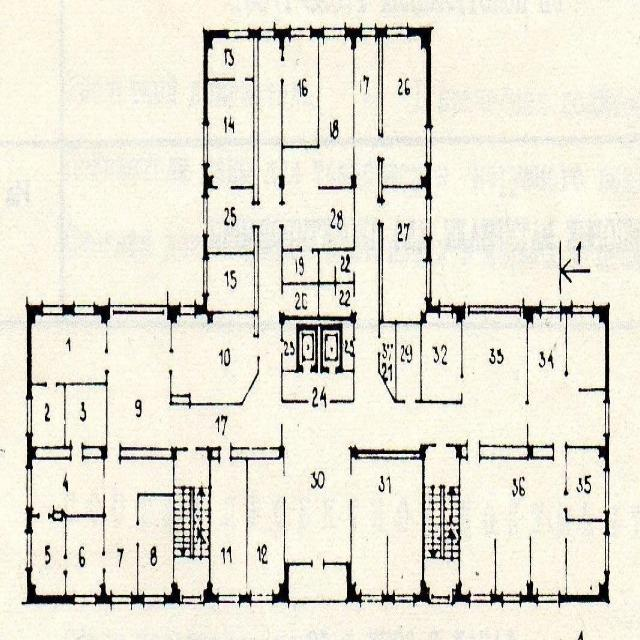Corridors: (283, 38, 527, 559), (108, 40, 280, 446), (105, 459, 173, 595), (283, 189, 353, 247), (66, 387, 105, 444), (289, 566, 346, 598), (282, 373, 352, 398), (398, 323, 419, 398), (380, 325, 395, 397), (283, 254, 317, 281), (283, 287, 317, 312), (283, 321, 296, 370), (344, 323, 353, 369), (337, 287, 352, 314), (337, 253, 353, 278), (320, 286, 334, 314), (320, 252, 334, 279)
Doors: (566, 523, 605, 595), (285, 184, 317, 191), (565, 377, 578, 394), (468, 445, 479, 458), (554, 444, 565, 457), (71, 446, 82, 458), (252, 203, 258, 225), (108, 446, 120, 457), (220, 446, 230, 458), (307, 401, 330, 406), (378, 199, 382, 222), (526, 404, 530, 424), (302, 245, 313, 252), (379, 137, 383, 156), (302, 367, 311, 375), (40, 512, 49, 520), (218, 186, 231, 191), (63, 557, 68, 570), (564, 523, 568, 539), (169, 351, 173, 367), (104, 355, 108, 371), (405, 398, 415, 404), (280, 204, 283, 224), (257, 337, 260, 356), (460, 379, 464, 393), (436, 443, 447, 448), (281, 61, 284, 79), (283, 476, 286, 494), (564, 495, 568, 507), (329, 366, 335, 374), (137, 525, 140, 541), (353, 250, 355, 273), (47, 382, 56, 387), (351, 475, 353, 497), (280, 341, 283, 354), (281, 404, 283, 423), (187, 447, 196, 451), (353, 342, 356, 354), (334, 297, 336, 315), (102, 554, 105, 566), (103, 478, 105, 495), (378, 338, 380, 351), (353, 297, 355, 307), (281, 291, 282, 308), (335, 251, 336, 267)
LBwalls: (406, 25, 433, 129), (200, 26, 228, 126), (22, 566, 76, 603), (25, 431, 73, 469), (591, 303, 609, 404), (558, 571, 609, 605), (26, 302, 43, 400), (251, 39, 260, 205), (479, 444, 555, 461), (119, 443, 177, 460), (229, 444, 284, 460), (271, 563, 290, 605), (521, 294, 541, 330), (345, 560, 361, 604), (200, 161, 218, 200), (253, 223, 259, 339), (419, 296, 441, 326), (194, 291, 214, 323), (344, 19, 363, 52), (273, 20, 292, 51), (519, 578, 539, 604), (451, 579, 471, 605), (166, 292, 181, 325), (597, 433, 609, 474), (413, 578, 431, 605), (94, 581, 112, 607), (93, 298, 110, 325), (419, 162, 431, 200), (163, 580, 182, 604), (451, 303, 469, 328), (81, 443, 108, 459), (203, 580, 219, 604), (558, 300, 573, 323), (310, 25, 324, 45), (422, 235, 431, 265), (24, 508, 34, 535), (489, 587, 503, 605), (380, 590, 398, 604), (238, 590, 253, 606), (130, 593, 145, 608), (374, 23, 387, 40), (202, 231, 209, 262), (207, 445, 221, 460), (603, 511, 610, 539), (249, 26, 262, 41), (61, 302, 75, 315), (459, 443, 468, 459)
Offices: (461, 459, 565, 595), (284, 37, 352, 184), (529, 315, 605, 445), (353, 459, 420, 595), (173, 317, 257, 403), (383, 37, 426, 182), (383, 189, 425, 320), (32, 315, 108, 382), (208, 82, 253, 184), (211, 460, 245, 594), (248, 461, 282, 595), (31, 459, 103, 513), (284, 37, 318, 144), (421, 313, 461, 401), (141, 499, 171, 594), (208, 190, 253, 250), (67, 518, 102, 595), (568, 315, 604, 387), (568, 451, 605, 517), (32, 520, 63, 595), (208, 258, 253, 309), (32, 388, 62, 444), (209, 40, 253, 76)
Stairs: (422, 449, 459, 595), (173, 452, 210, 595)
Walls: (278, 51, 359, 344), (377, 223, 463, 404), (350, 443, 436, 579), (277, 36, 320, 206), (137, 460, 175, 581), (169, 355, 259, 406), (55, 371, 109, 445), (48, 495, 106, 558), (280, 323, 318, 403), (320, 323, 355, 403), (376, 155, 422, 204), (563, 442, 600, 496), (562, 507, 605, 523), (378, 37, 383, 140), (288, 599, 346, 604), (246, 459, 248, 594), (459, 459, 461, 581), (209, 461, 211, 579), (207, 251, 253, 256), (526, 329, 529, 404), (323, 559, 348, 568), (350, 499, 353, 564), (565, 313, 568, 377), (565, 538, 568, 595), (213, 311, 254, 315), (494, 538, 497, 592), (136, 540, 139, 594), (460, 327, 463, 379), (289, 561, 313, 567), (529, 534, 532, 580), (283, 495, 285, 563), (208, 77, 235, 82), (386, 535, 388, 595), (578, 388, 605, 392), (63, 569, 67, 595), (105, 323, 108, 355), (170, 322, 173, 353), (230, 185, 252, 189), (32, 381, 46, 387), (280, 422, 283, 445), (32, 513, 41, 520), (445, 443, 457, 448), (282, 458, 285, 477), (102, 566, 105, 583), (176, 448, 188, 452), (196, 447, 208, 451), (245, 76, 253, 82), (103, 459, 105, 480), (527, 424, 529, 444), (281, 50, 284, 62)
Windows: (109, 305, 167, 315), (469, 306, 520, 315), (386, 27, 407, 37), (430, 595, 451, 605), (323, 28, 346, 37), (75, 595, 95, 605), (203, 124, 208, 164), (27, 468, 32, 507), (426, 198, 431, 236), (75, 305, 94, 315), (229, 29, 249, 38), (290, 28, 310, 37), (361, 594, 381, 603), (219, 594, 239, 603), (251, 595, 273, 603), (27, 398, 32, 433), (541, 306, 560, 315), (43, 306, 62, 315), (203, 259, 208, 292), (394, 595, 414, 603), (144, 595, 164, 603), (537, 595, 559, 602), (573, 307, 592, 315), (471, 595, 490, 603), (426, 261, 430, 298), (182, 596, 203, 603), (427, 127, 431, 162), (605, 536, 609, 571), (503, 594, 520, 602), (112, 596, 131, 603), (27, 534, 31, 566), (180, 306, 194, 315), (605, 403, 609, 433), (606, 471, 609, 511), (261, 29, 274, 38), (440, 305, 452, 314), (362, 28, 375, 36), (204, 198, 207, 232)
